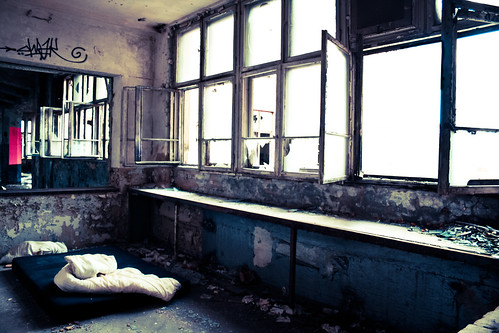graffiti: (1, 32, 103, 69)
mattress: (1, 228, 194, 321)
window: (358, 26, 496, 182), (1, 73, 121, 191), (244, 58, 331, 171), (171, 79, 238, 167)
